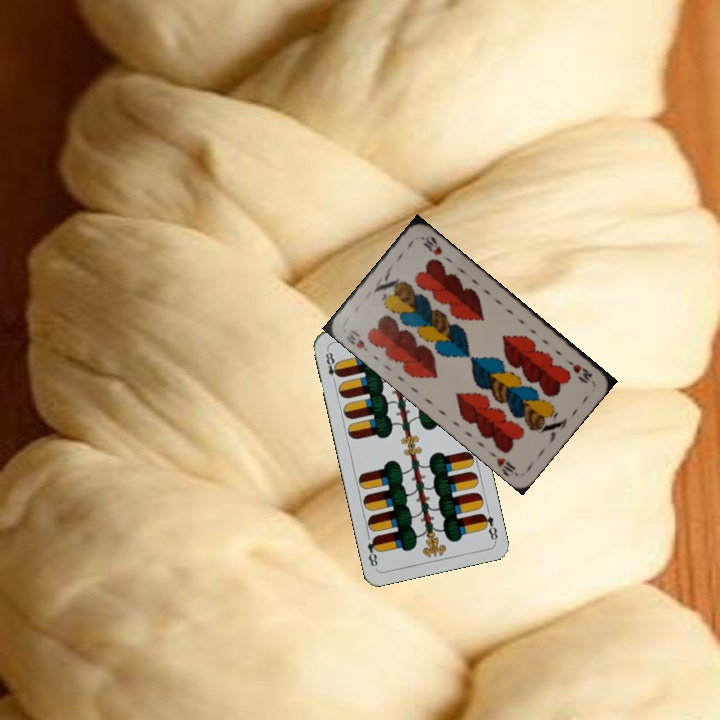E8: (322, 346, 343, 386), (477, 509, 500, 544)
H10: (563, 356, 595, 385), (342, 325, 371, 354)
